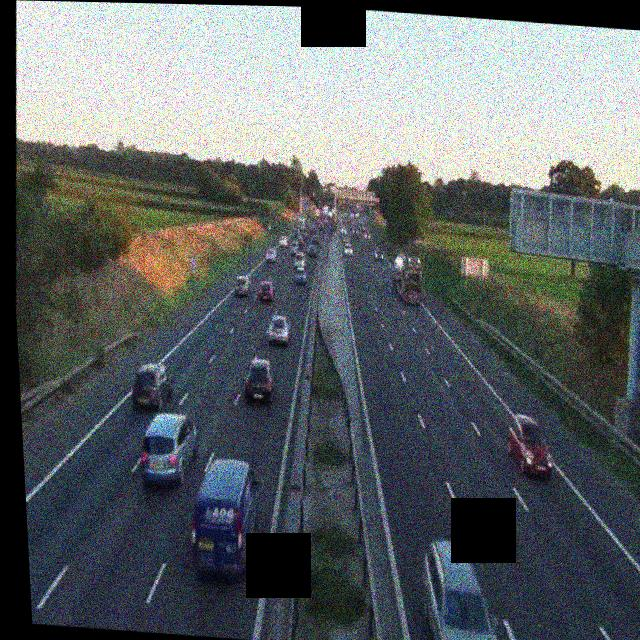car: (186, 455, 265, 580), (416, 538, 507, 640), (138, 410, 201, 488), (506, 413, 556, 478), (130, 360, 176, 413), (243, 356, 279, 404), (267, 316, 291, 346), (256, 280, 274, 304), (234, 275, 252, 298), (292, 263, 308, 286), (265, 247, 278, 262), (306, 244, 317, 258), (343, 243, 354, 256), (375, 247, 385, 260), (362, 228, 372, 241), (341, 224, 349, 234)
truck: (391, 253, 424, 305)
